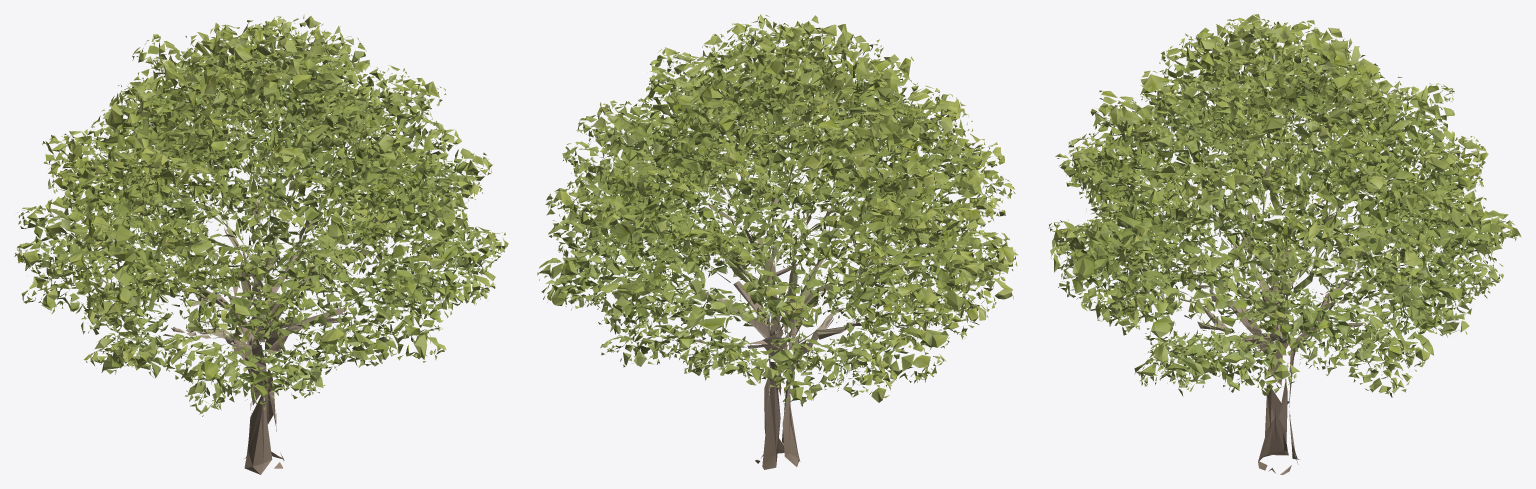
File: tree.glb
3 views of the same model, side by side, from view 1: azimuth 30°, elevation 25°; view 2: azimuth 150°, elevation 25°; view 3: azimuth 270°, elevation 25° (orthographic).
Visible parts, largest first — view 1: geometry_0; view 2: geometry_0; view 3: geometry_0.
Part boxes in pixels (bbox=[...]): geometry_0: bbox=[14, 14, 508, 474]; geometry_0: bbox=[537, 14, 1018, 469]; geometry_0: bbox=[1048, 14, 1521, 474].
Bounding box in the file's own units: 1.83 × 1.87 × 1.83.
